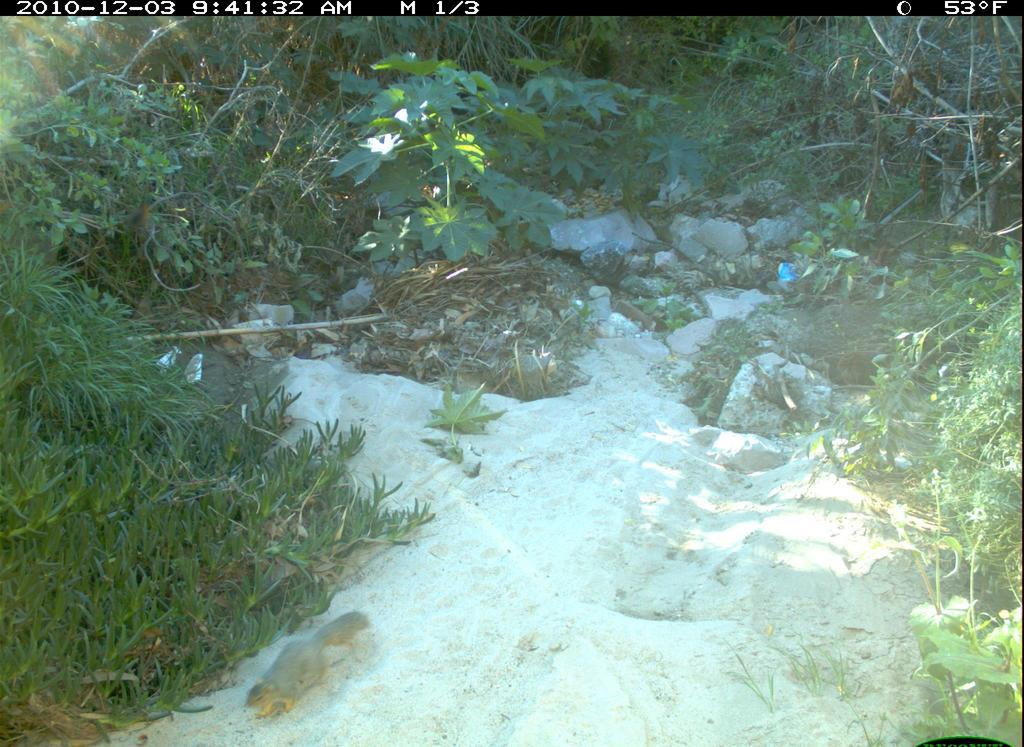squirrel: (232, 602, 390, 729)
